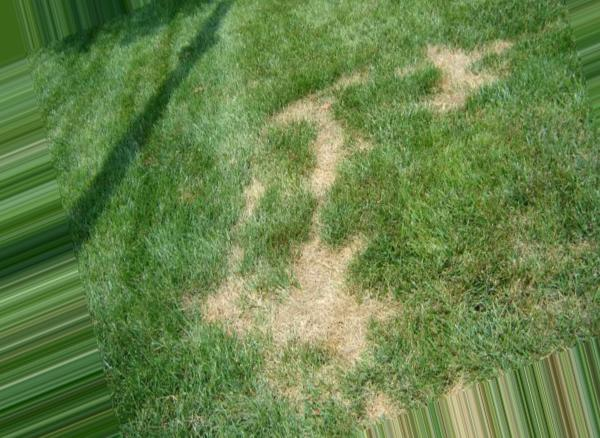patch: (225, 254, 374, 343), (298, 108, 338, 190), (437, 56, 480, 81)
